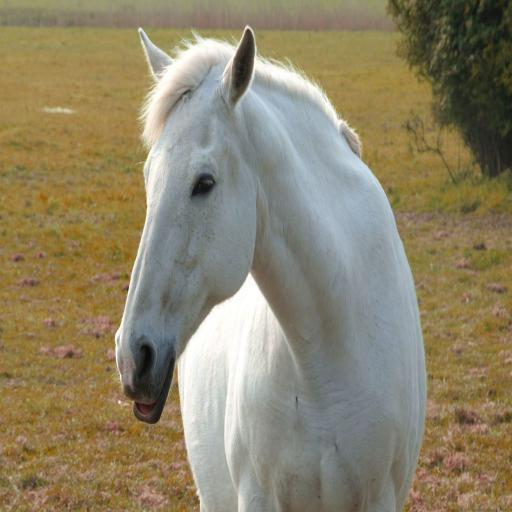horse: (108, 22, 428, 511)
